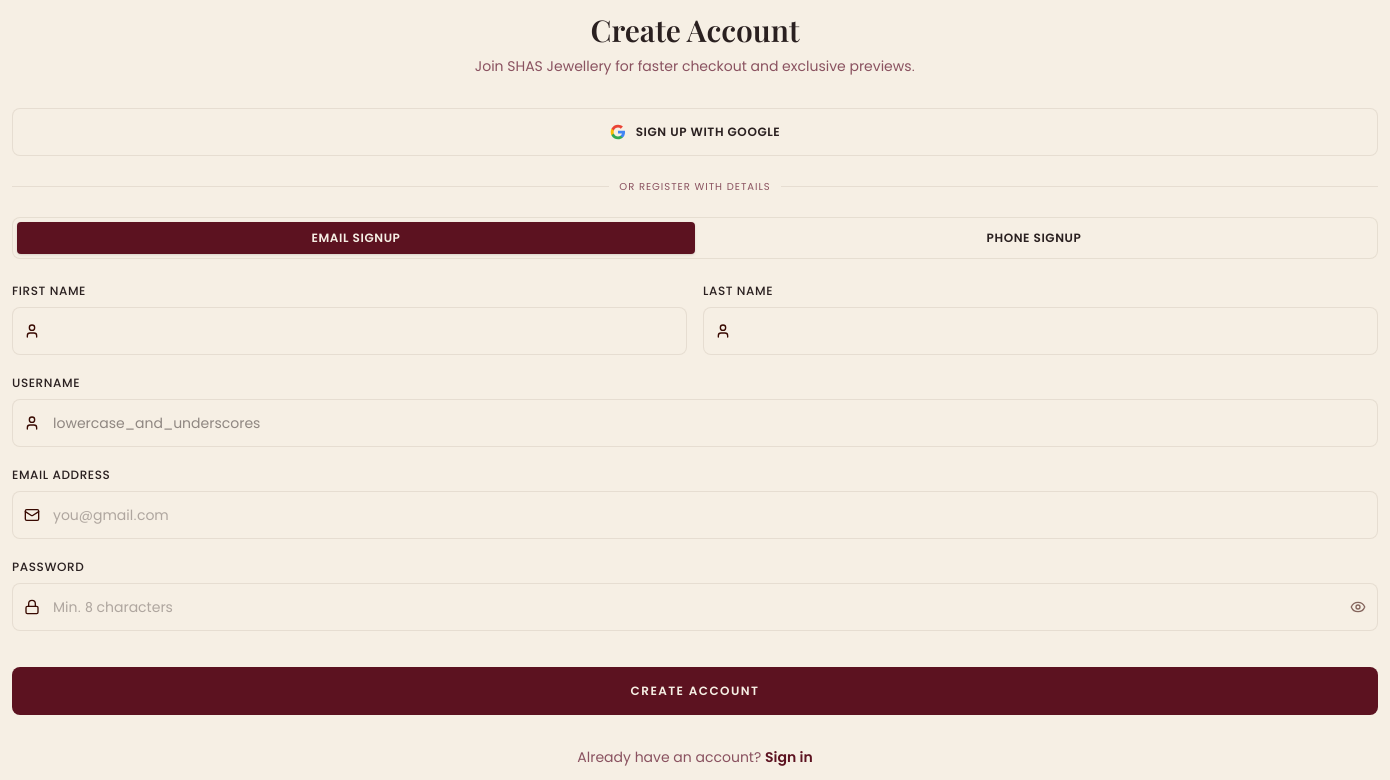
Test: RegisterForm › submits form with user data and handles success
The width and height of the screenshot is (1390, 780).
Type "John" into the field labelled "First Name" at [350, 331], box x1=12 y1=307 x2=687 y2=355
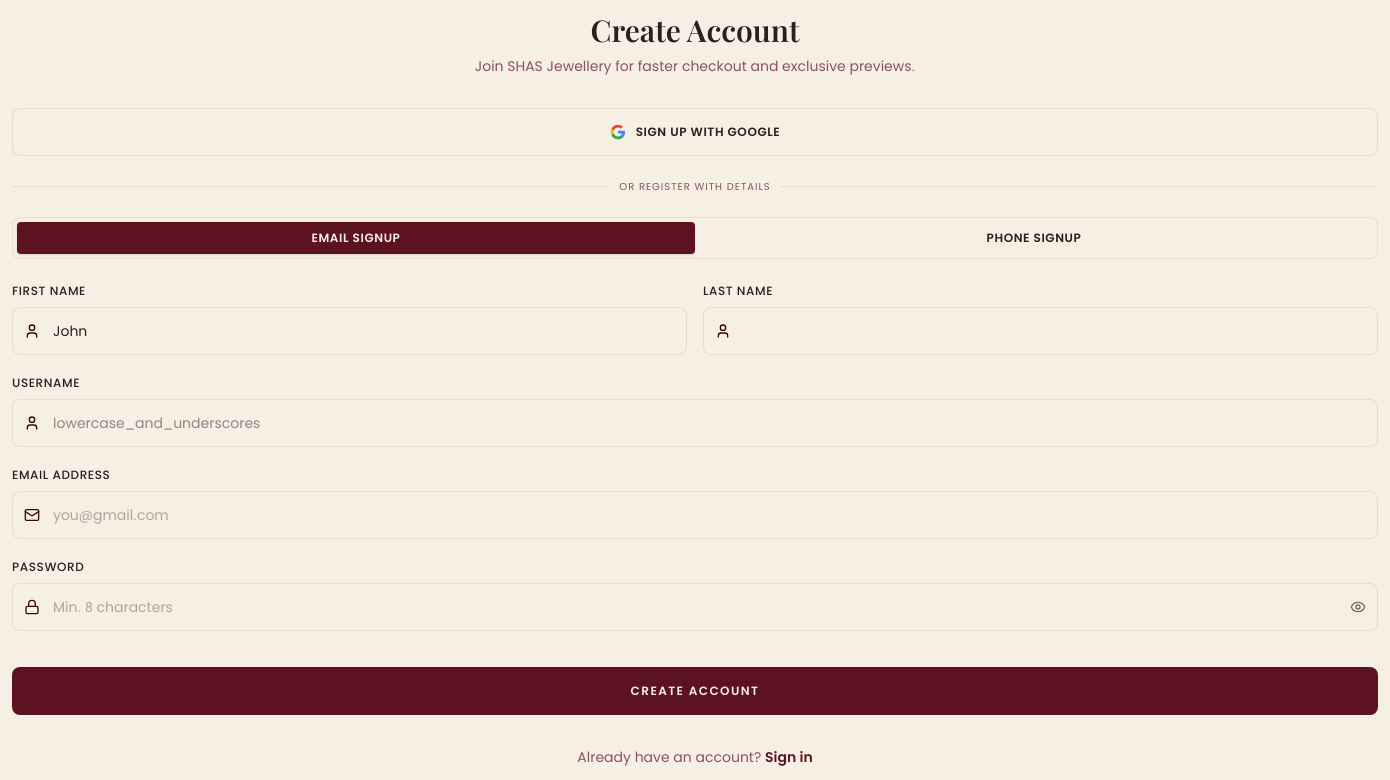
Type "Doe" into the field labelled "Last Name" at [1040, 331], box x1=703 y1=307 x2=1378 y2=355
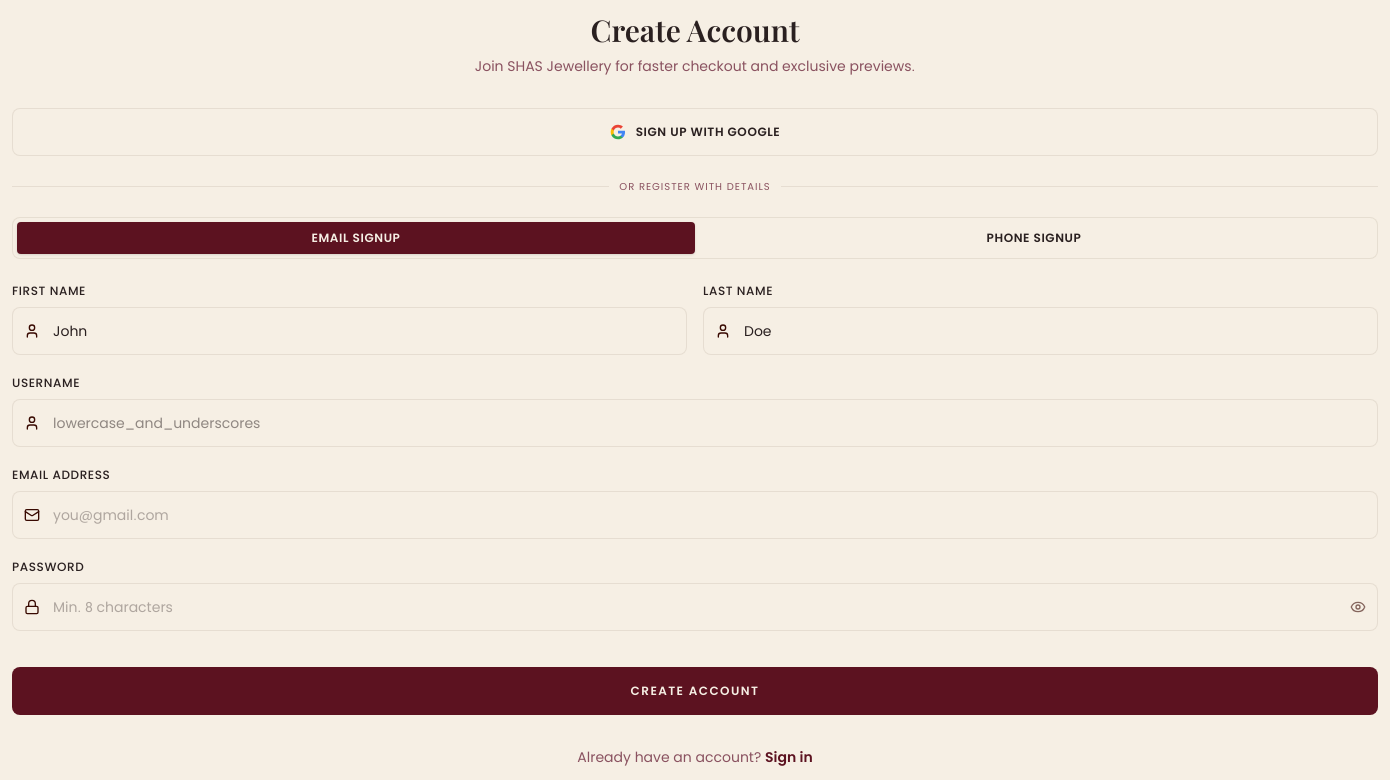
Type "johndoe" into the field labelled "Username" at [695, 423], box x1=12 y1=399 x2=1378 y2=447
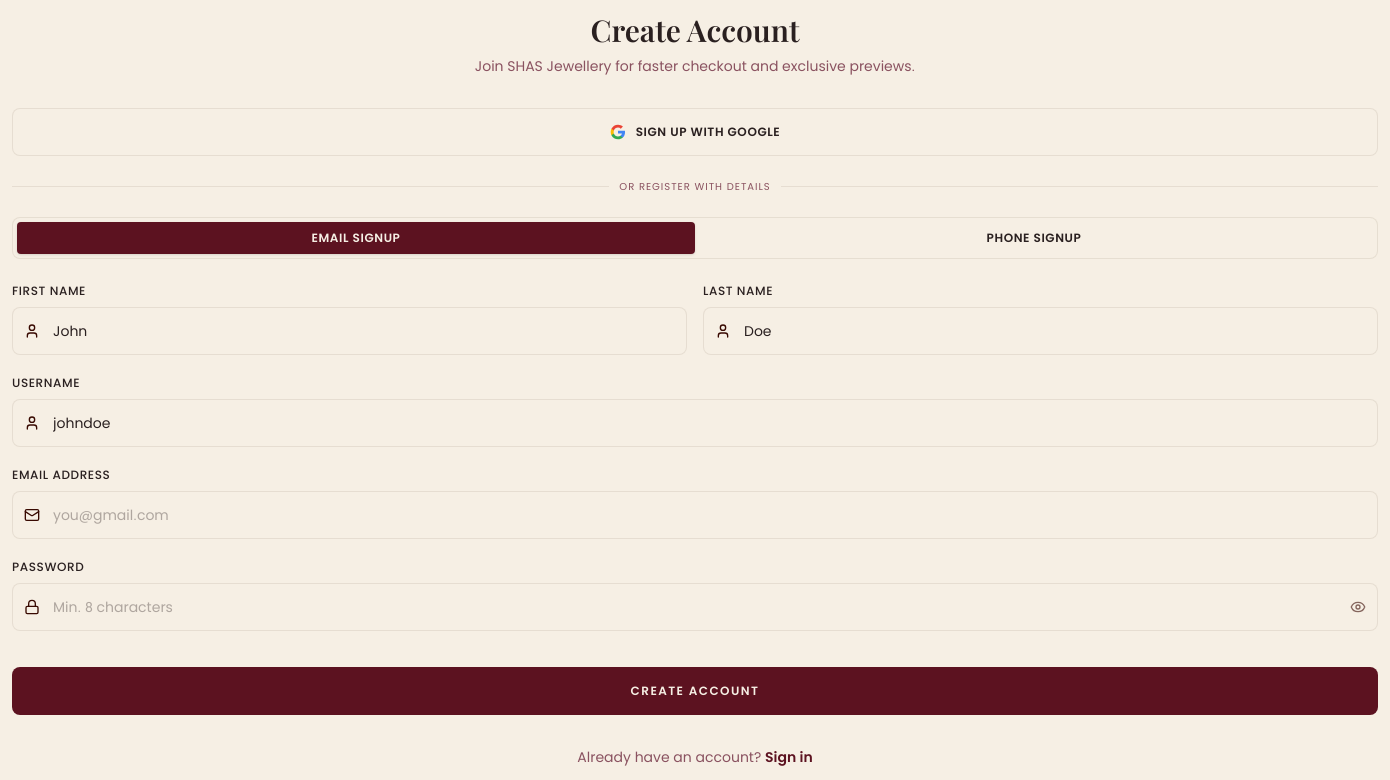
Type "john.doe@example.com" into the field labelled "Email Address" at [695, 515], box x1=12 y1=491 x2=1378 y2=539
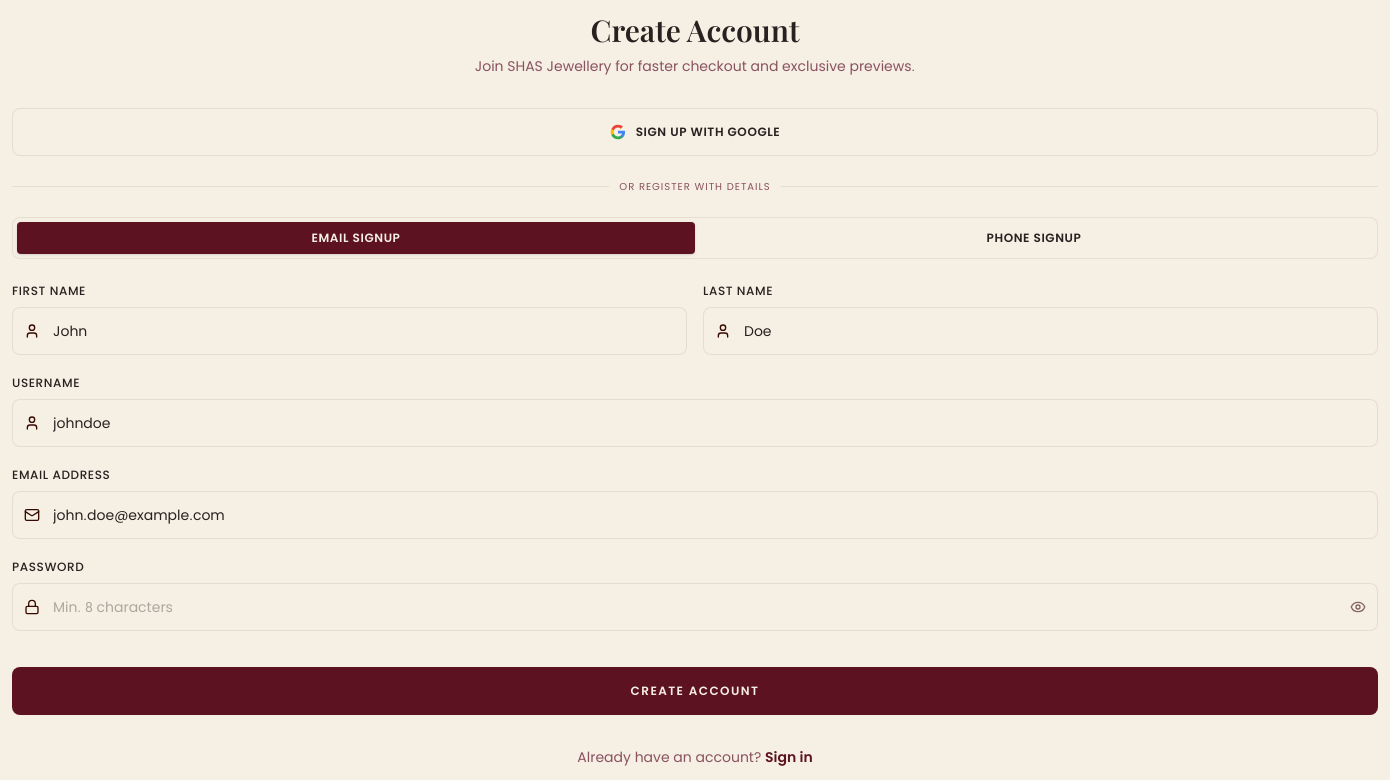
Type "password123" into the password field labelled "Password" at [695, 607], box x1=12 y1=583 x2=1378 y2=631
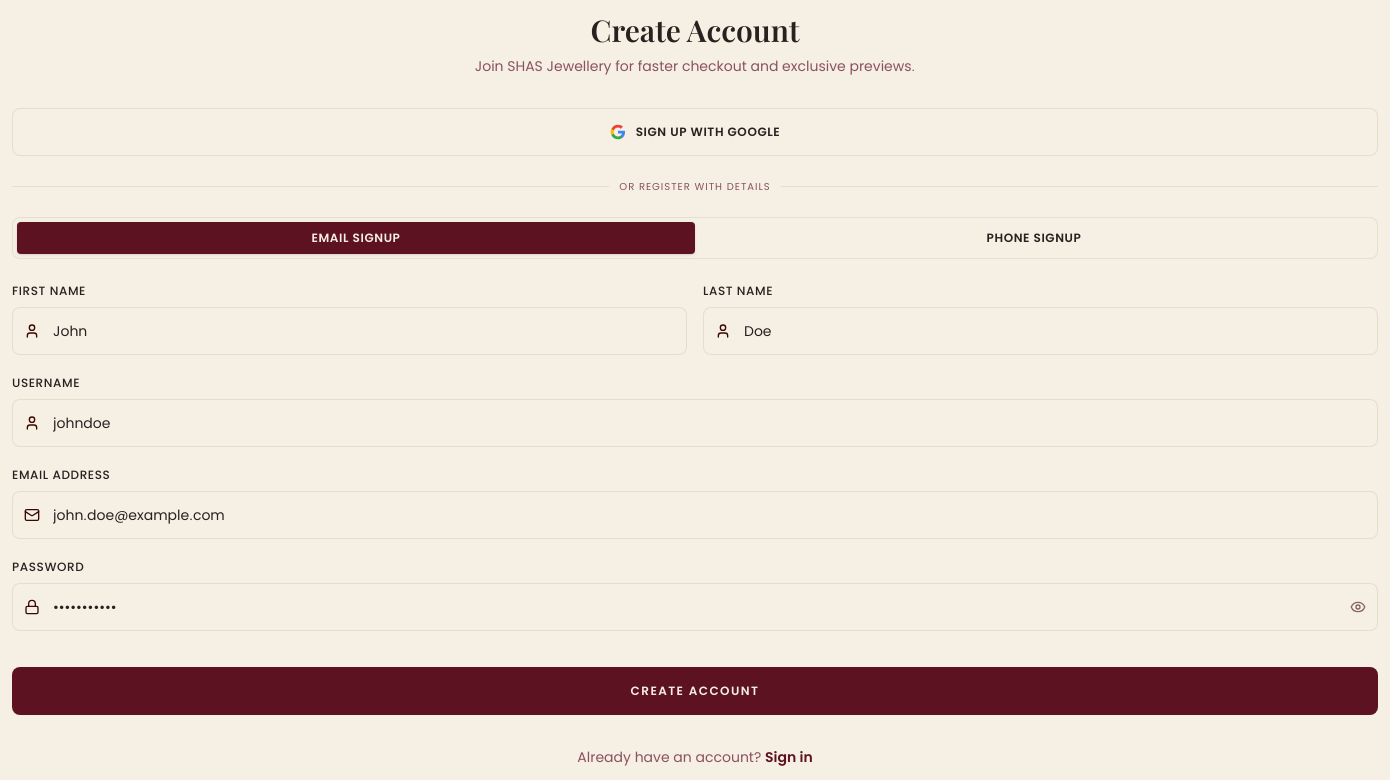
Click the button "Create Account" at [695, 691], box x1=12 y1=667 x2=1378 y2=715
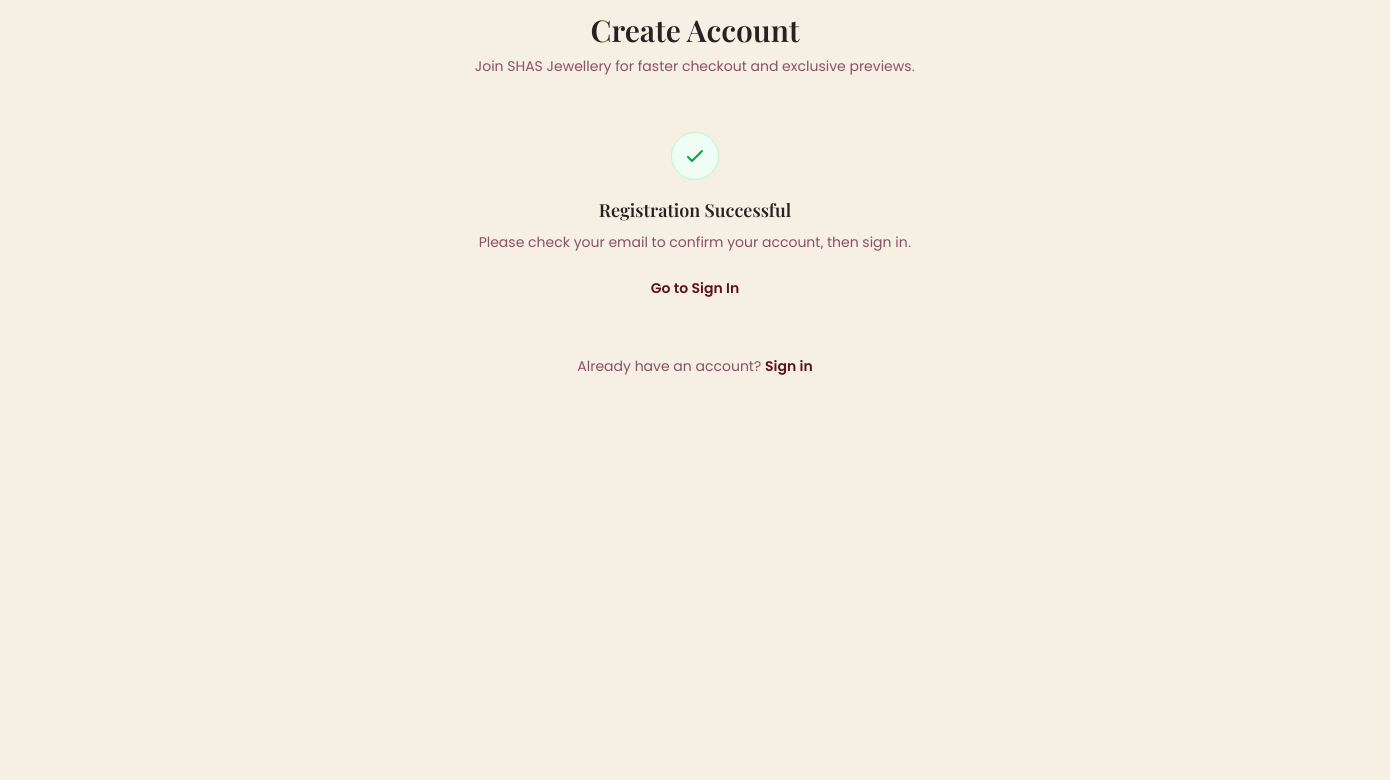
Expected: the heading "Registration Successful" is shown, x1=599 y1=198 x2=791 y2=222
Expected: the text "Please check your email to confirm your account" is shown, x1=479 y1=232 x2=911 y2=252
